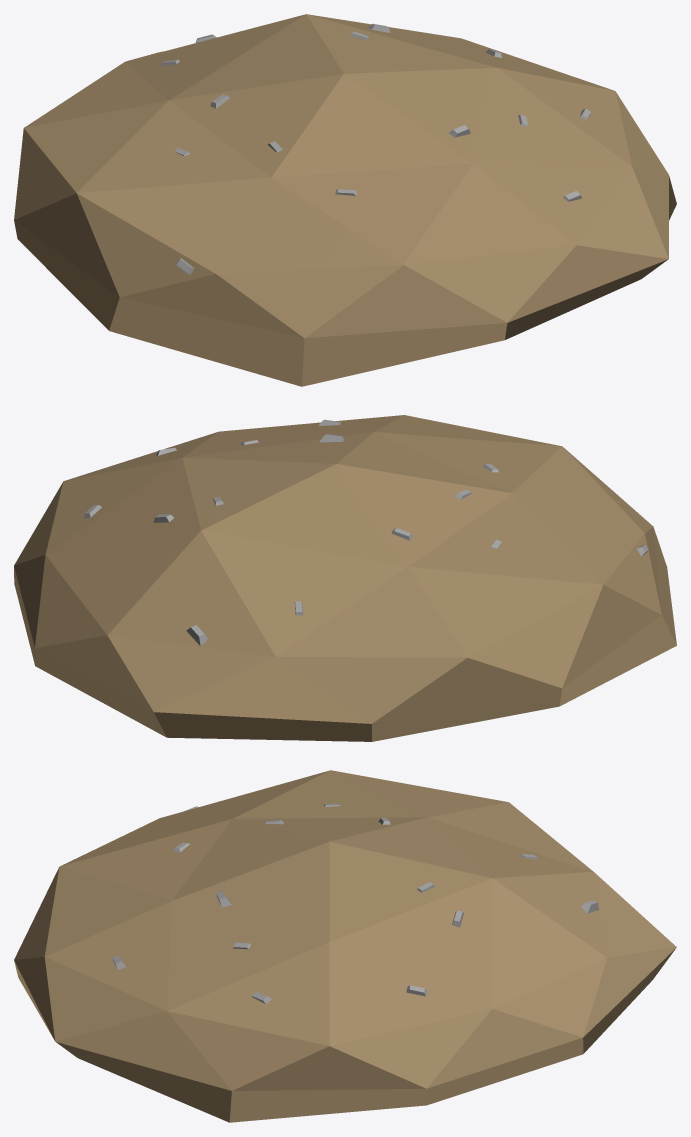
File: burger_bread.glb
3 renders of one model, top to bottom at view 1: azimuth 30°, elevation 25°; view 2: azimuth 150°, elevation 25°; view 3: azimuth 270°, elevation 25°, orthographic. The views are drawn at different scales.
Parts seen in each view (by area): view 1: Burger_Bread_Icosphere.001; view 2: Burger_Bread_Icosphere.001; view 3: Burger_Bread_Icosphere.001.
Boxes of the visible parts, left/top/right/bottom form: Burger_Bread_Icosphere.001: left=14, top=14, right=676, bottom=386; Burger_Bread_Icosphere.001: left=14, top=415, right=676, bottom=741; Burger_Bread_Icosphere.001: left=14, top=770, right=676, bottom=1122.
Bounding box in the file's own units: 1.48 × 0.4047 × 1.58.
